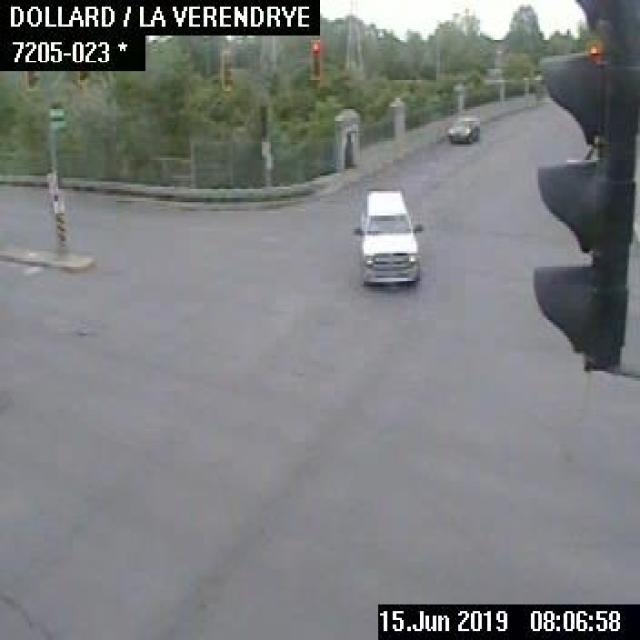vehicle: (349, 186, 422, 286), (445, 113, 480, 145)
